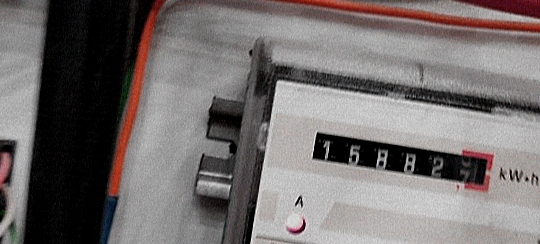1: (319, 137, 336, 160)
2: (428, 154, 447, 180)
5: (346, 141, 364, 167)
7: (458, 165, 472, 183)
8: (402, 150, 419, 176), (374, 146, 390, 171)
screen: (302, 121, 504, 202)
